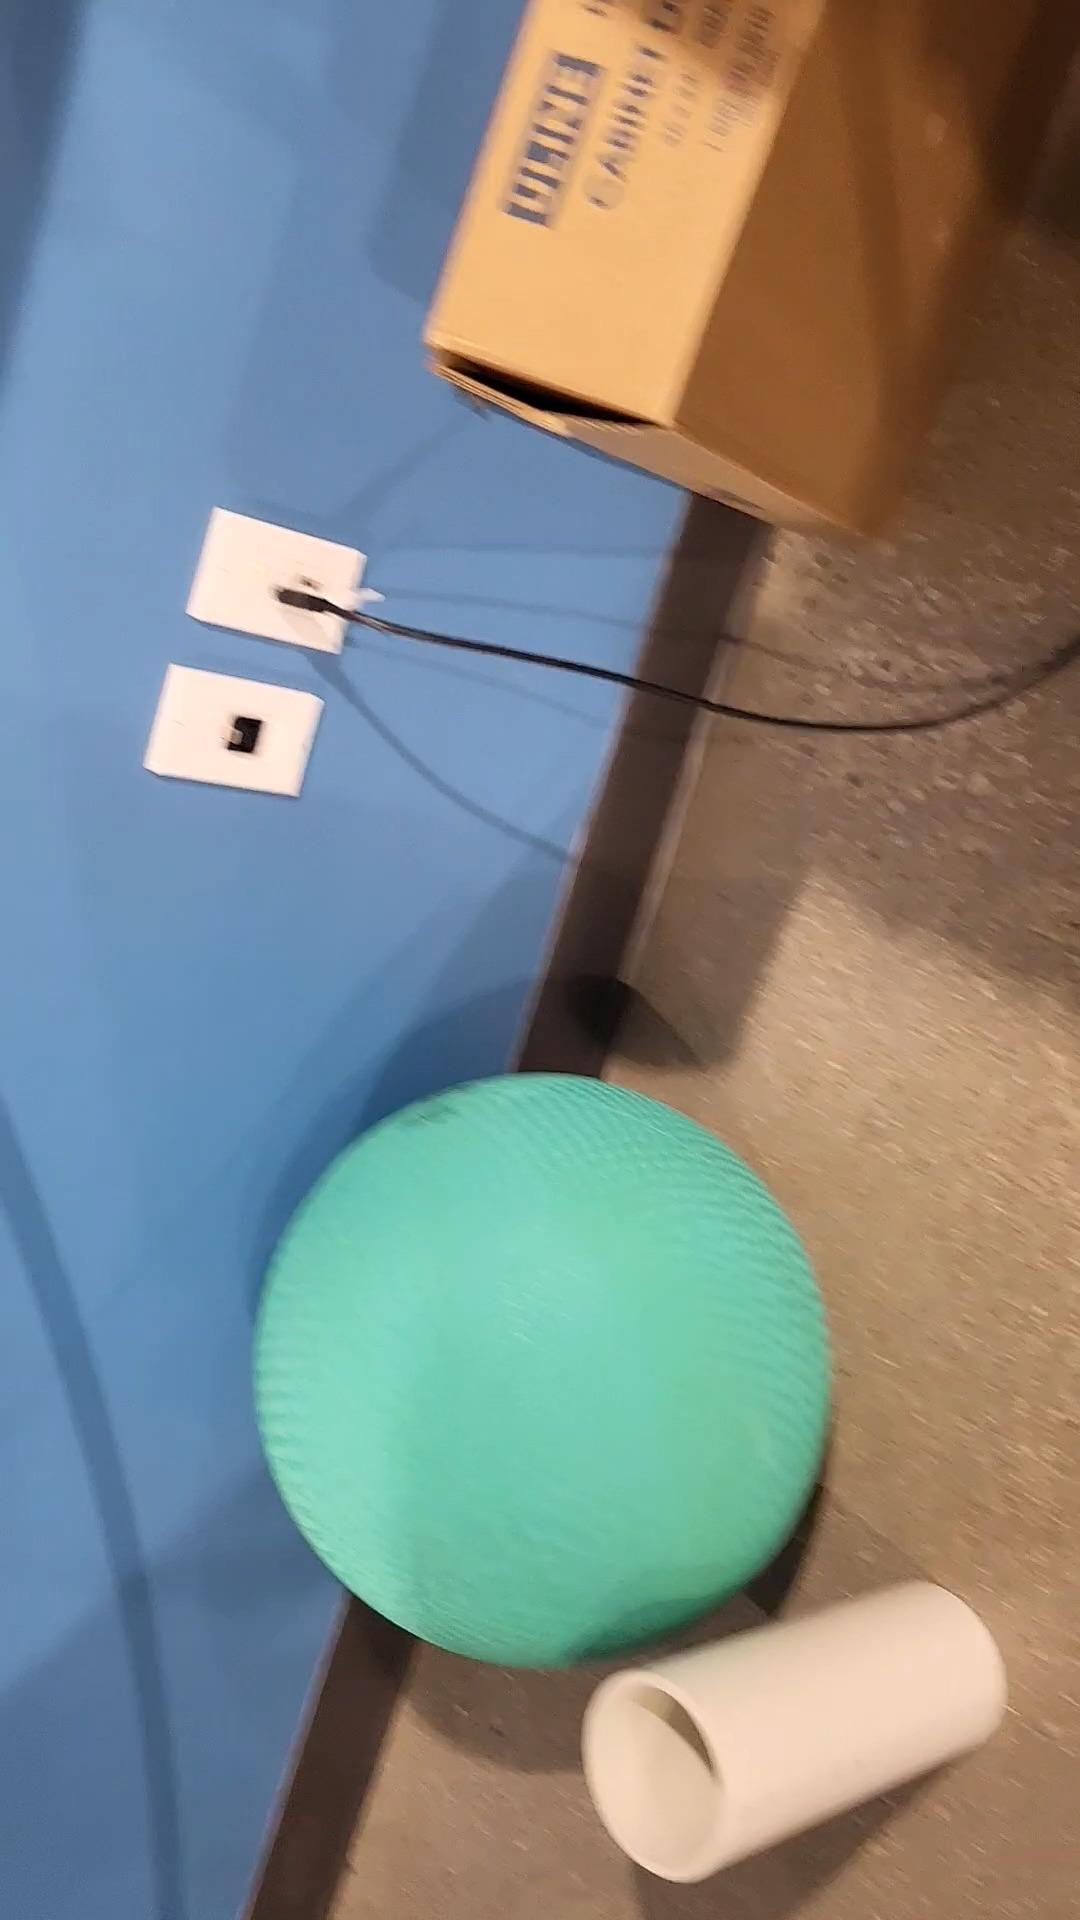algae: (260, 1075, 829, 1669)
coral: (583, 1577, 1007, 1878)
